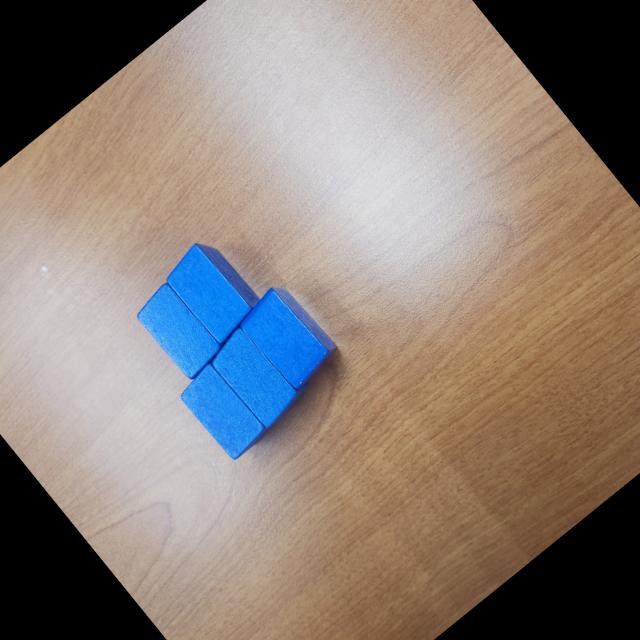blue: (203, 314, 314, 430), (234, 278, 344, 394), (159, 234, 268, 346), (174, 357, 273, 462), (132, 280, 228, 382)
